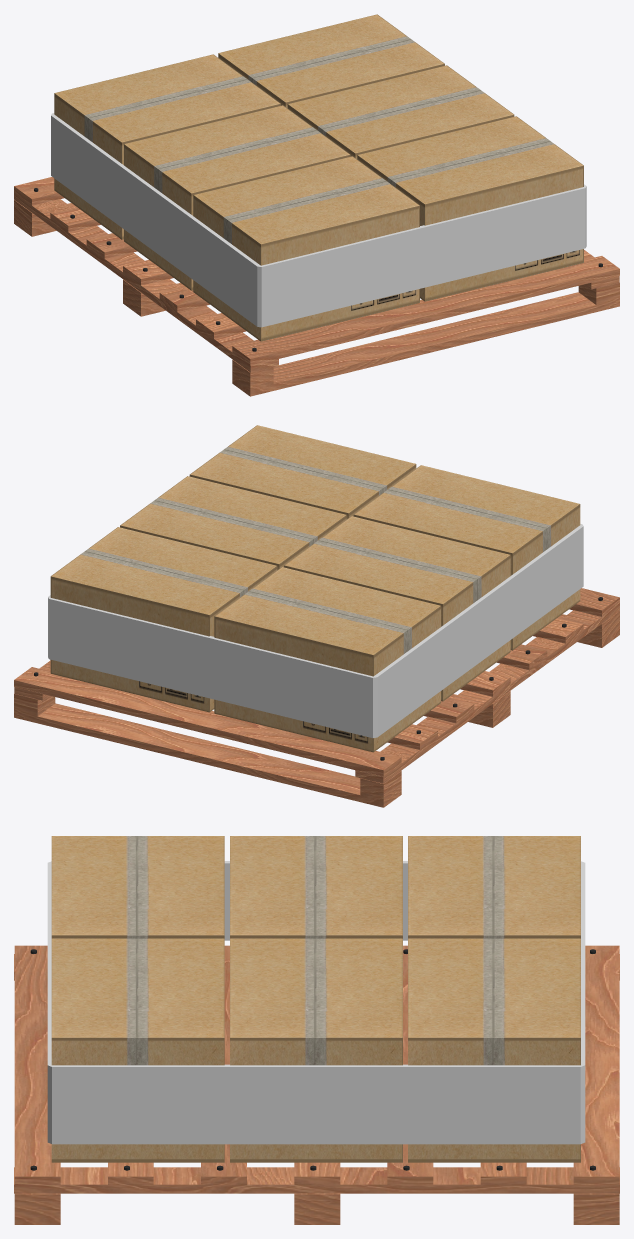
The model's file is caixa02.fbx.
3 views of the same model, one above another, from view 1: azimuth 30°, elevation 25°; view 2: azimuth 150°, elevation 25°; view 3: azimuth 270°, elevation 25° (orthographic). The views are drawn at different scales.
Parts seen in each view (by area): view 1: Cube.017, Cubo, Wood Pallet Standar.001; view 2: Cube.017, Cubo, Wood Pallet Standar.001; view 3: Cube.017, Cubo, Wood Pallet Standar.001.
Part boxes in pixels (<box>): Cube.017: <box>54,14,583,341</box>; Cubo: <box>51,113,586,327</box>; Wood Pallet Standar.001: <box>14,177,619,396</box>; Cube.017: <box>50,425,580,752</box>; Cubo: <box>48,524,583,737</box>; Wood Pallet Standar.001: <box>14,588,619,807</box>; Cube.017: <box>51,836,580,1162</box>; Cubo: <box>47,861,585,1144</box>; Wood Pallet Standar.001: <box>14,945,619,1224</box>.
Bounding box in the file's own units: 42.53 × 14.89 × 47.13.
